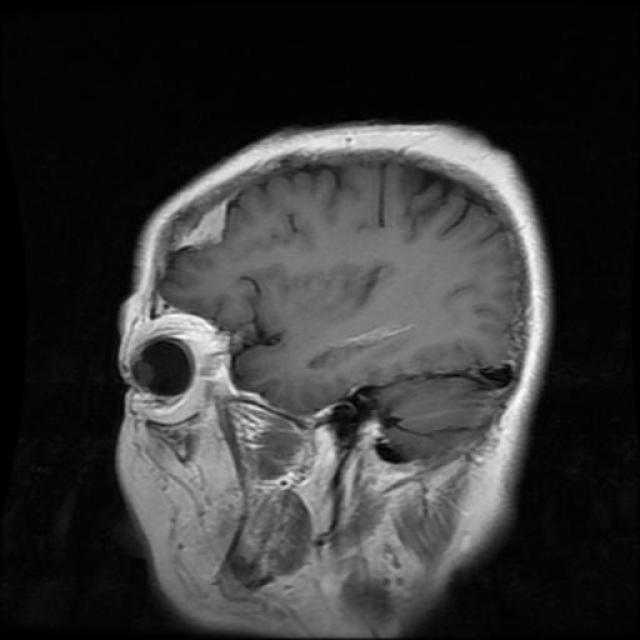meningioma: (182, 208, 224, 248)
